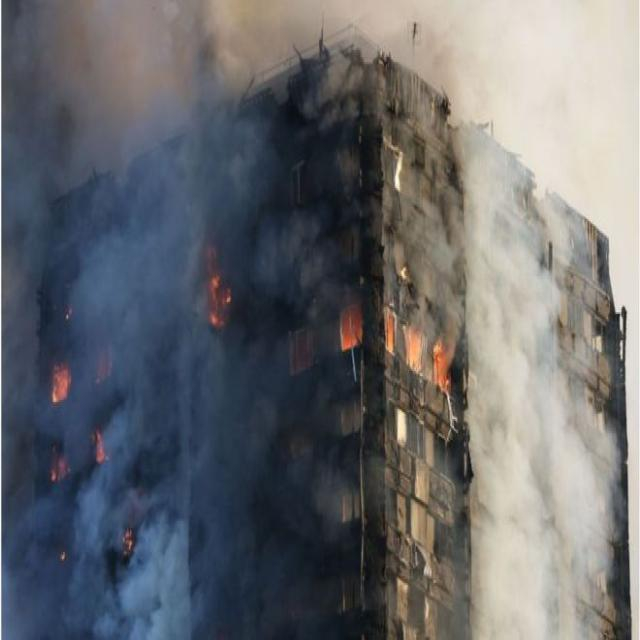Smoke: (106, 198, 256, 558), (484, 210, 574, 622), (62, 29, 232, 132)
